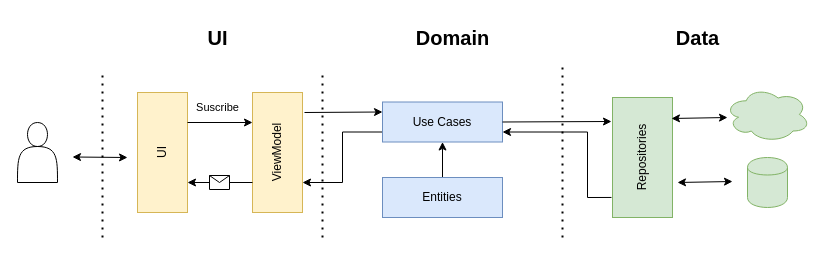
The diagram is 828 pixels wide and 256 high, and some of its shapes have lost their labels. The shapes that lost their labels are listed below. From the top down, each one's centre as x and y in pixels, then its label:
the point at 767,114: API
the point at 767,182: DB
